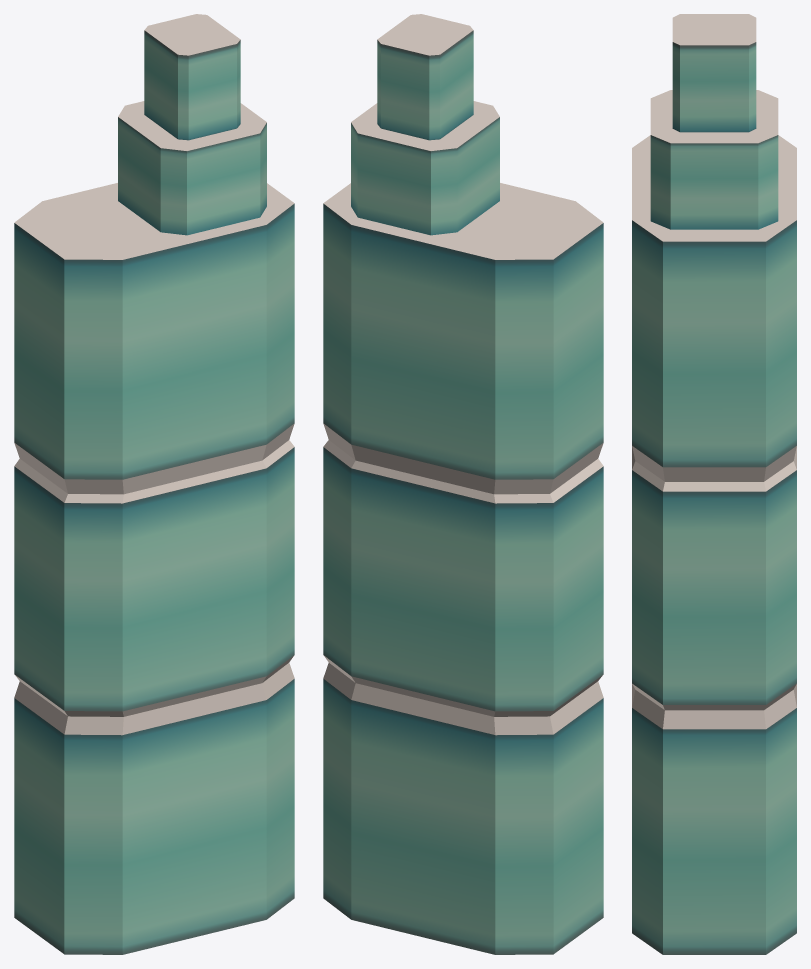
Rendered from Tiny_B_1.fbx.
The picture shows the model from 3 angles, left to right: view 1: azimuth 30°, elevation 25°; view 2: azimuth 150°, elevation 25°; view 3: azimuth 270°, elevation 25°; orthographic projection. The views are drawn at different scales.
Parts seen in each view (by area): view 1: Tall_B_1; view 2: Tall_B_1; view 3: Tall_B_1.
Part boxes in pixels (x1,y1,x2,y2): Tall_B_1: (14, 14, 294, 954); Tall_B_1: (323, 14, 603, 954); Tall_B_1: (632, 14, 796, 954).
Bounding box in the file's own units: 1598 × 5728 × 965.
